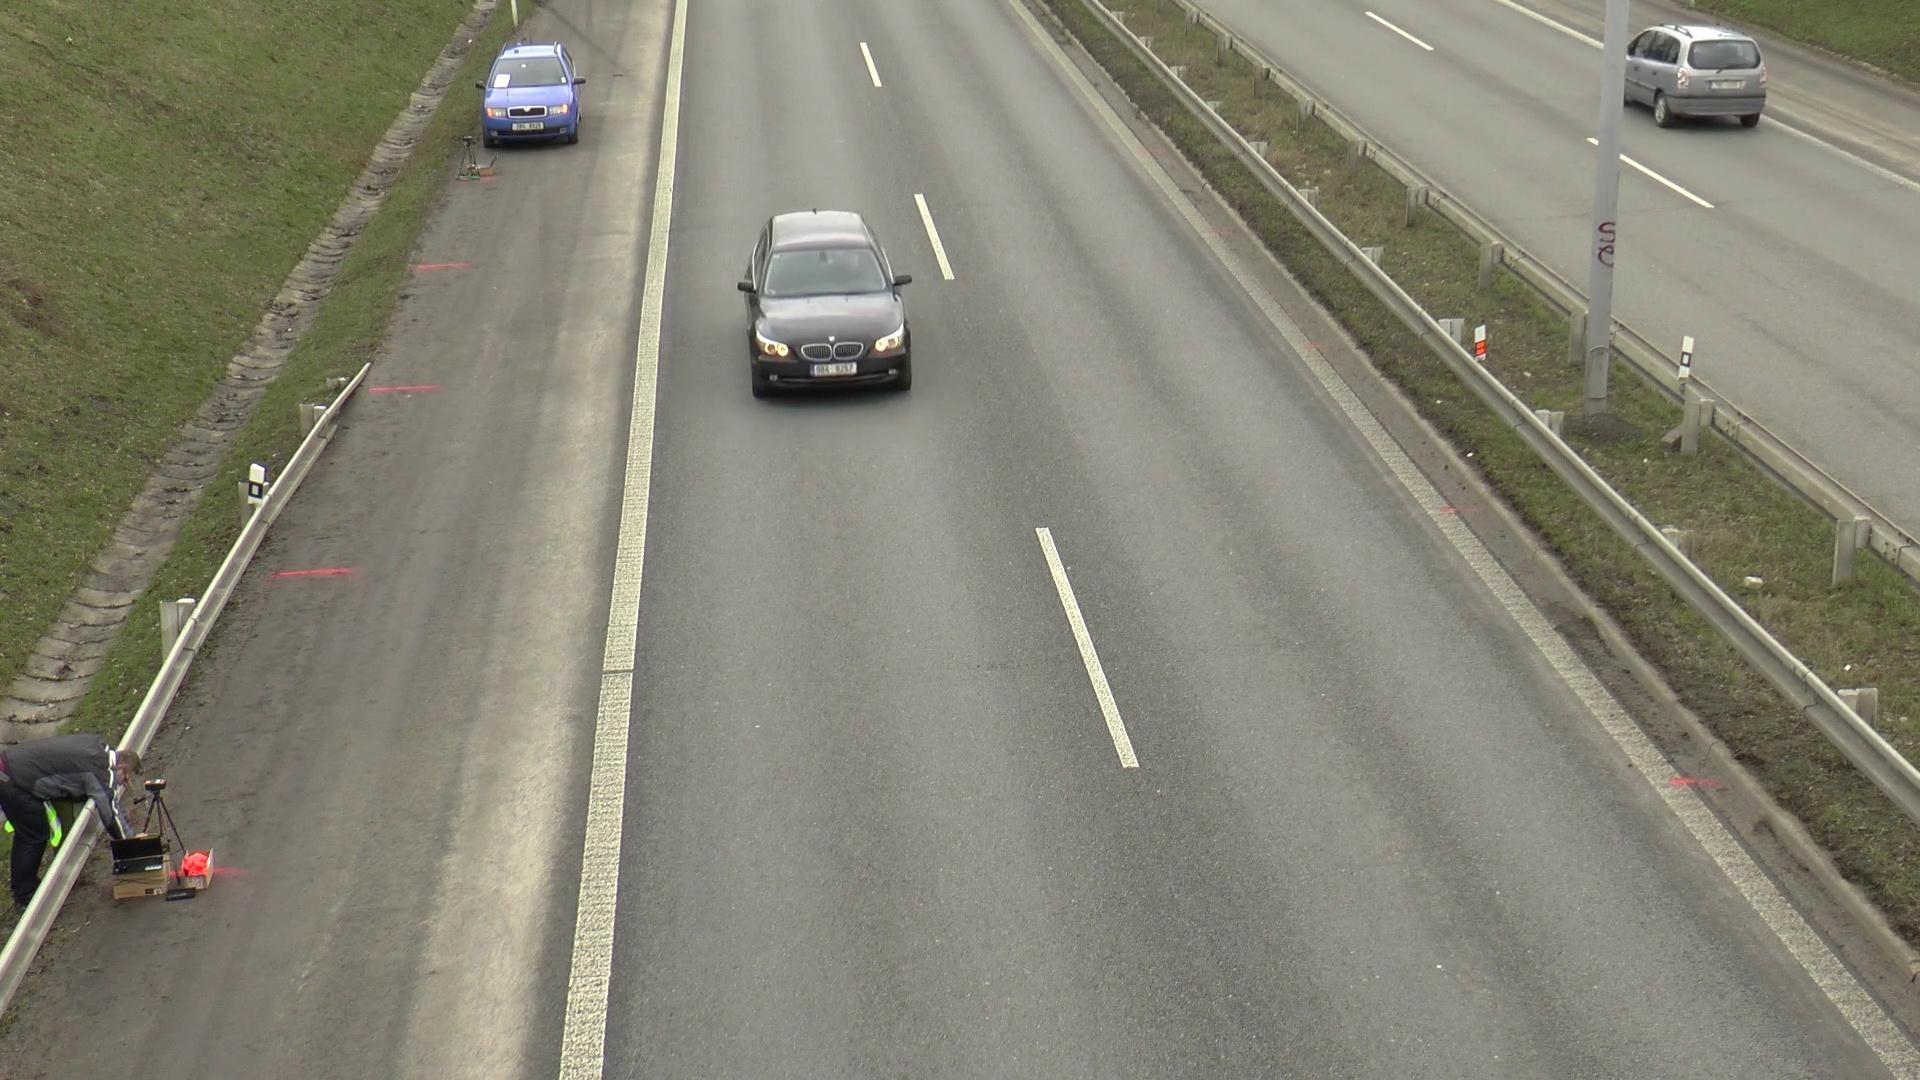Car: (727, 207, 931, 442), (1588, 26, 1795, 153), (468, 16, 587, 156)
